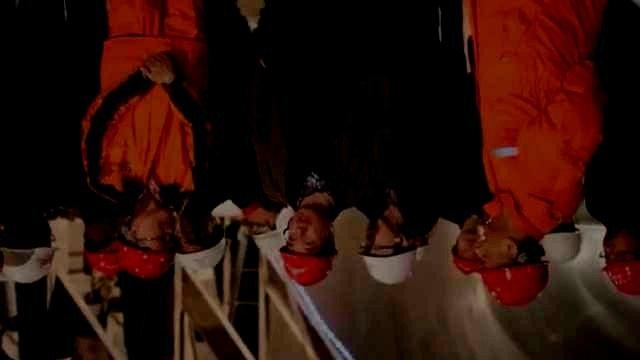helmet: (473, 226, 551, 310), (109, 202, 175, 280), (277, 208, 339, 288), (1, 207, 63, 284), (356, 213, 417, 286), (175, 202, 226, 273), (599, 228, 640, 298), (83, 221, 121, 278), (540, 219, 584, 265), (450, 227, 485, 277), (407, 221, 433, 263)
